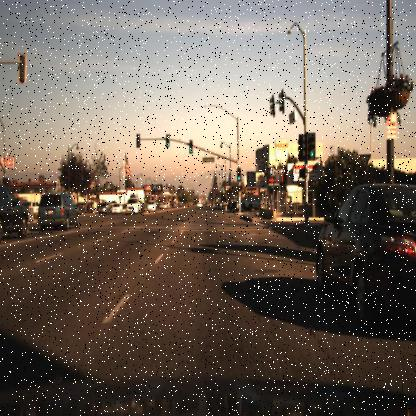car: (312, 182, 415, 331), (34, 186, 80, 235), (0, 184, 30, 244), (34, 191, 82, 228), (245, 193, 262, 213), (124, 196, 142, 214), (124, 196, 139, 216), (144, 197, 157, 212), (110, 201, 122, 217)
trafficLight: (135, 132, 142, 150)
trafficLight-Green: (306, 131, 317, 164), (237, 163, 245, 181), (163, 133, 170, 152), (186, 138, 194, 154), (186, 132, 193, 150), (308, 146, 315, 164), (164, 133, 171, 148), (236, 168, 242, 181)
